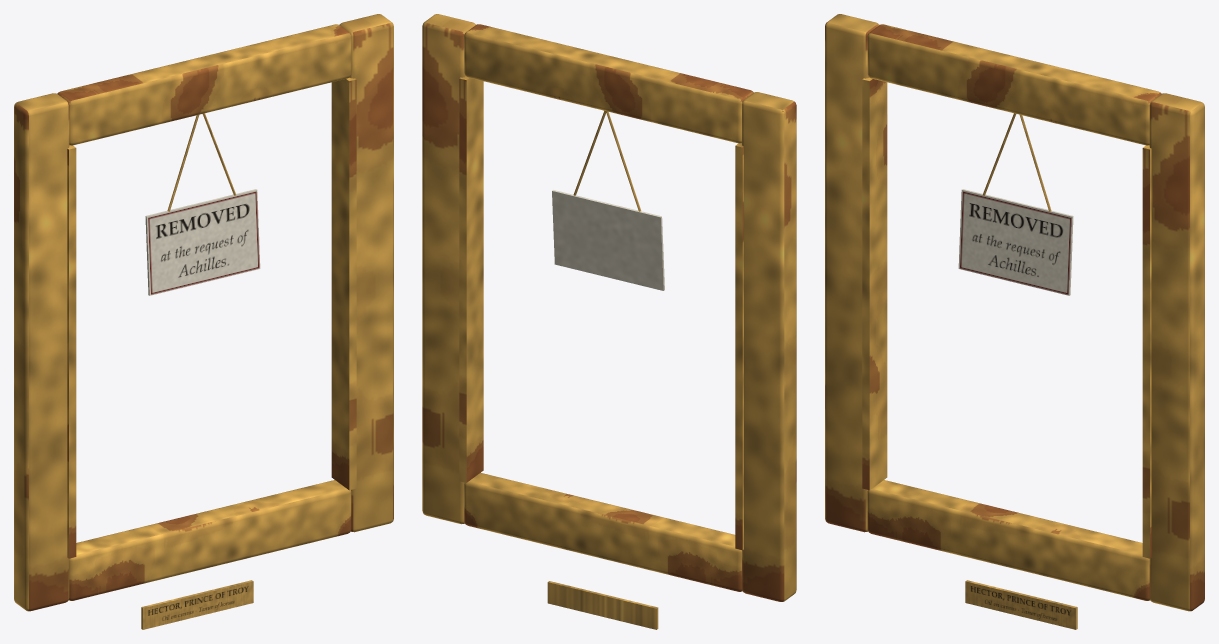
The model's file is frame_hector.gltf.
3 views of the same model, side by side, from view 1: azimuth 30°, elevation 25°; view 2: azimuth 150°, elevation 25°; view 3: azimuth 330°, elevation 25° (orthographic).
Visible parts, largest first — view 1: FrameHector; view 2: FrameHector; view 3: FrameHector.
Part boxes in pixels (x1,y1,x2,y2): FrameHector: (14, 14, 393, 629); FrameHector: (422, 14, 796, 629); FrameHector: (825, 14, 1204, 629).
Size of the model in its own units: 1 by 1.45 by 0.082.
3 materials, 3 textured.
